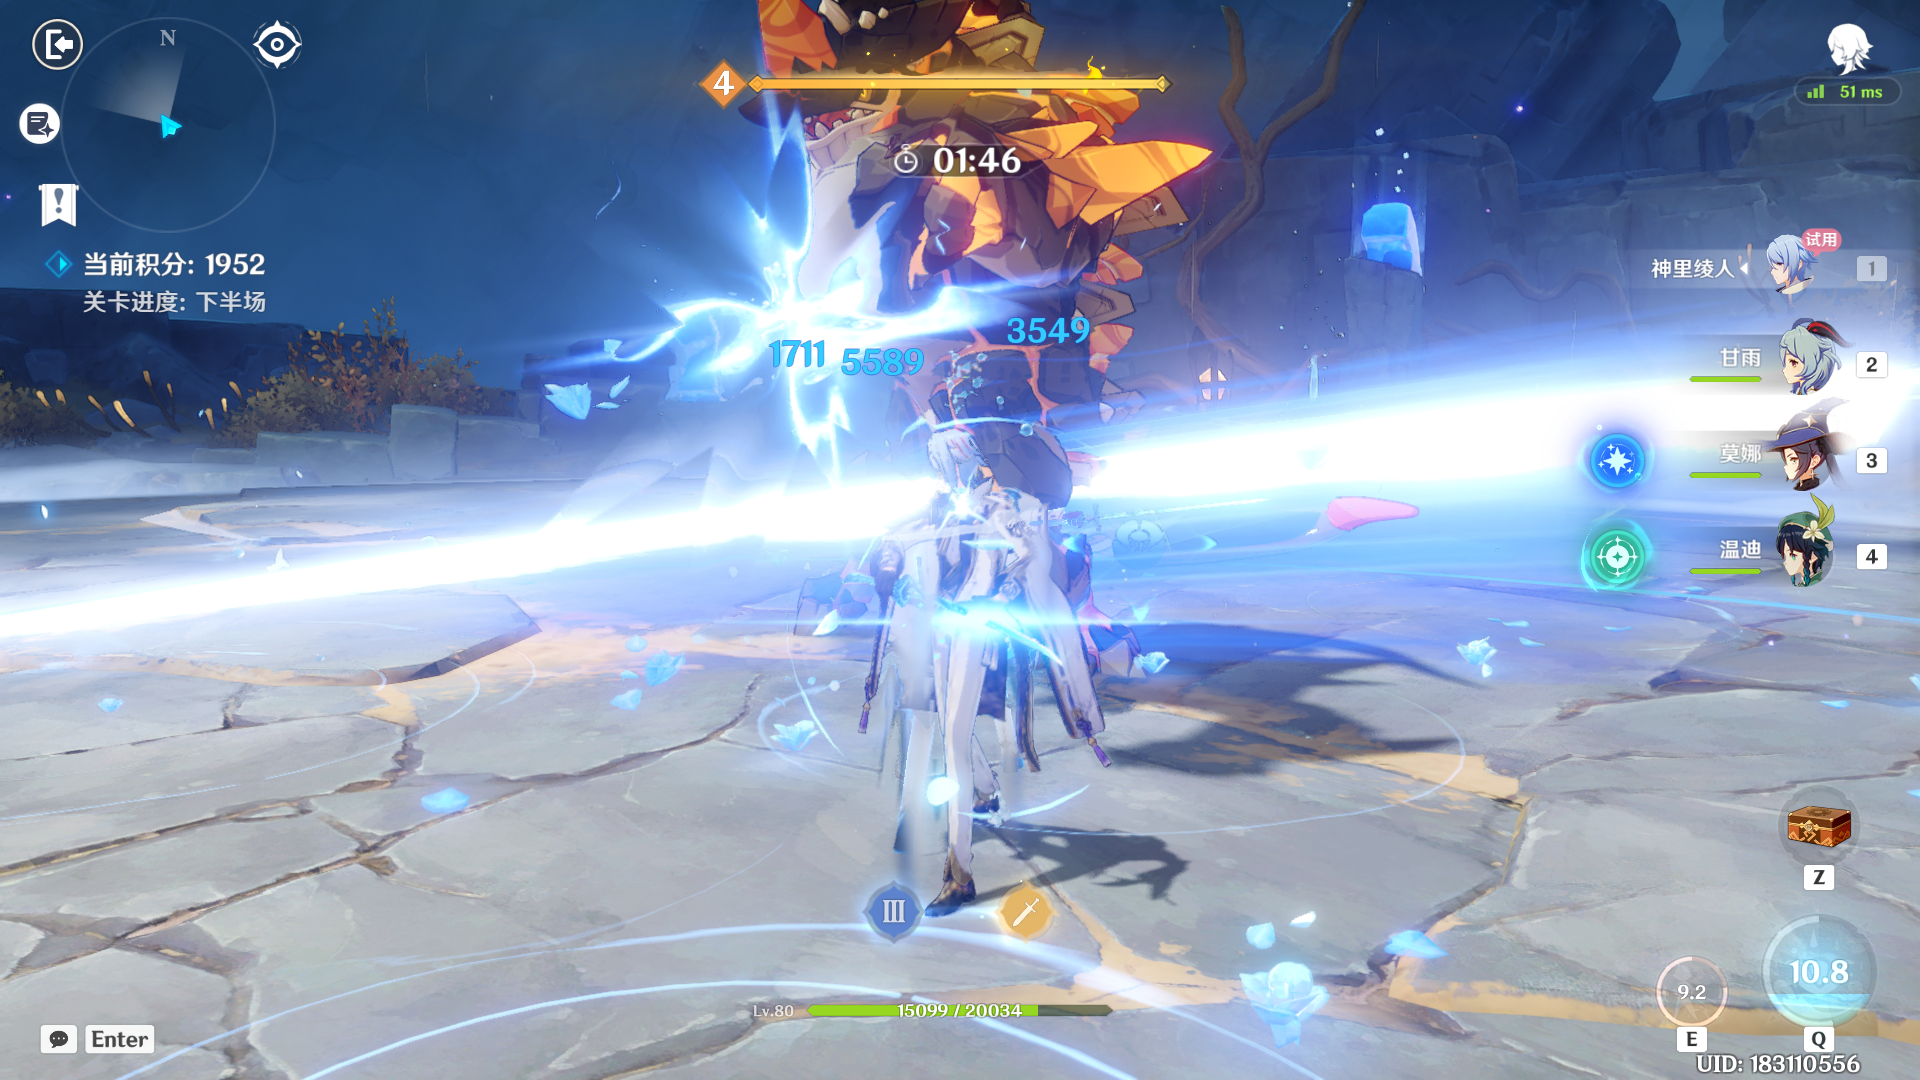character: (837, 404, 1095, 920)
